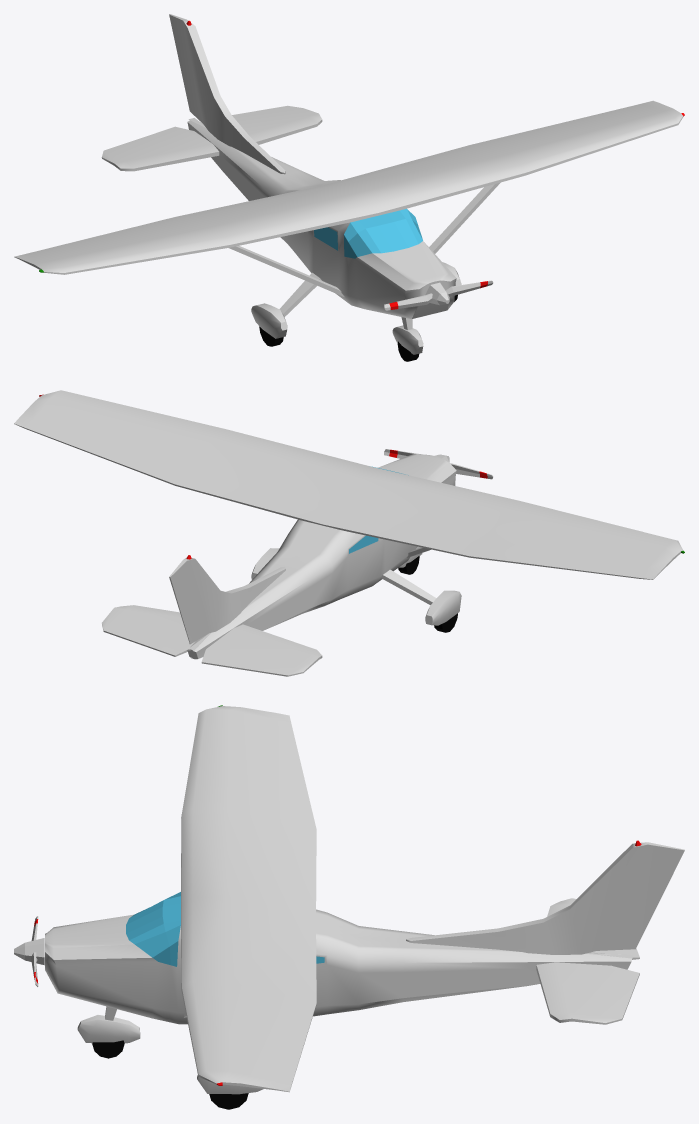
Rendered from Airplane.fbx.
3 renders of one model, top to bottom at view 1: azimuth 30°, elevation 25°; view 2: azimuth 150°, elevation 25°; view 3: azimuth 270°, elevation 25°, orthographic. The views are drawn at different scales.
Parts seen in each view (by area): view 1: Airplane; view 2: Airplane; view 3: Airplane.
Part boxes in pixels (bbox=[...]): Airplane: bbox=[14, 14, 684, 361]; Airplane: bbox=[14, 390, 684, 676]; Airplane: bbox=[14, 705, 684, 1109].
Bounding box in the file's own units: 5 × 1.32 × 3.74.
